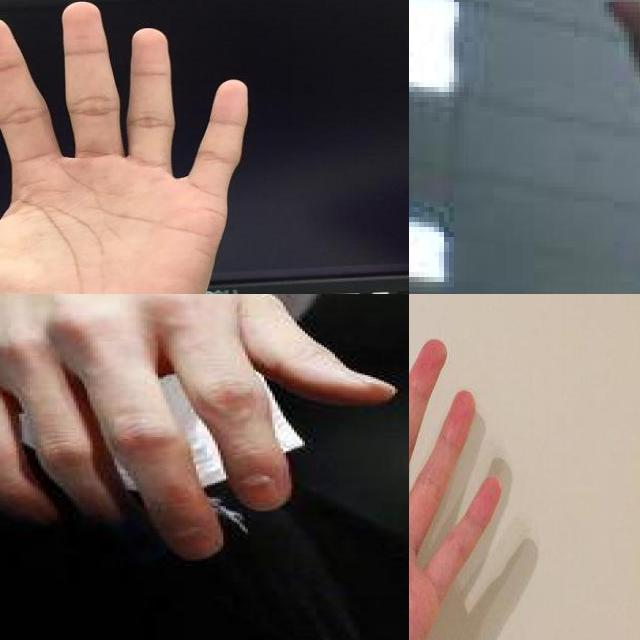no-gloves: (0, 294, 401, 561), (0, 0, 249, 294), (409, 319, 564, 640)
